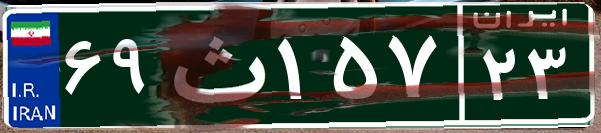1: (273, 28, 330, 110)
2: (475, 38, 525, 113)
3: (525, 38, 570, 115)
5: (330, 28, 385, 110)
6: (57, 26, 110, 107)
7: (385, 28, 445, 110)
9: (110, 28, 158, 105)
ث: (158, 15, 273, 115)
